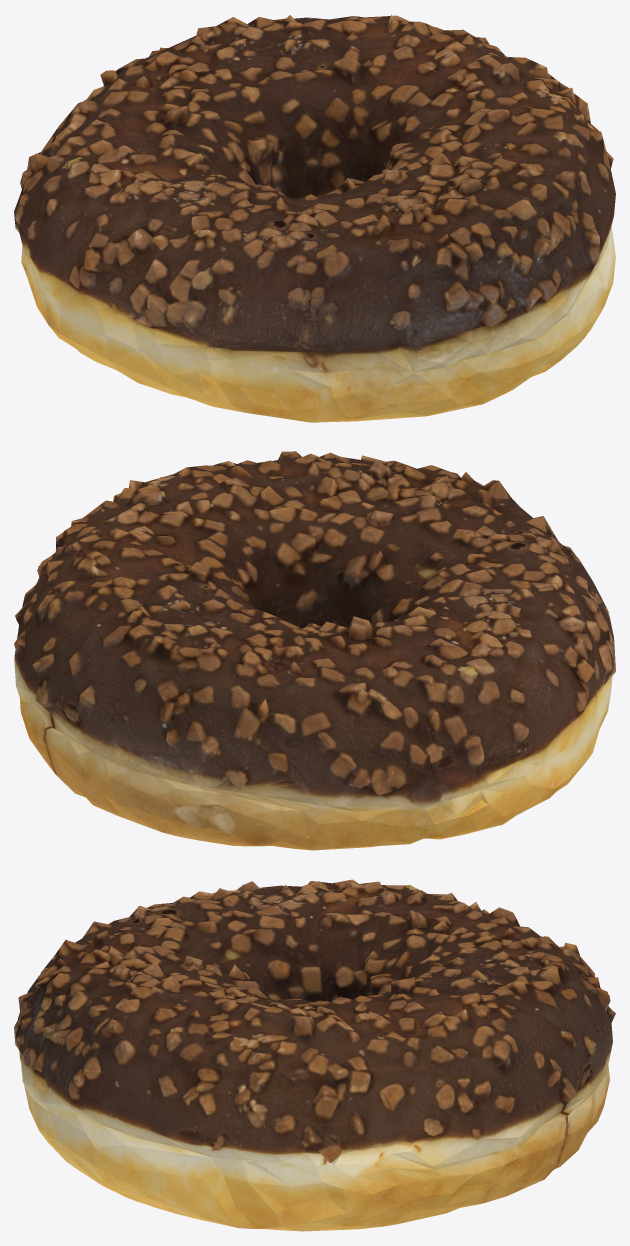
Rendered from chocolate_donut.glb.
3 views of the same model, one above another, from view 1: azimuth 30°, elevation 25°; view 2: azimuth 150°, elevation 25°; view 3: azimuth 270°, elevation 25° (orthographic). The views are drawn at different scales.
Parts seen in each view (by area): view 1: Material2; view 2: Material2; view 3: Material2.
Part boxes in pixels (box(x1,y1,x2,y2)): Material2: box(14, 14, 615, 422); Material2: box(14, 451, 615, 850); Material2: box(14, 879, 615, 1231).
Bounding box in the file's own units: 4.21 × 1.64 × 4.43.
2 materials, 1 textured.
